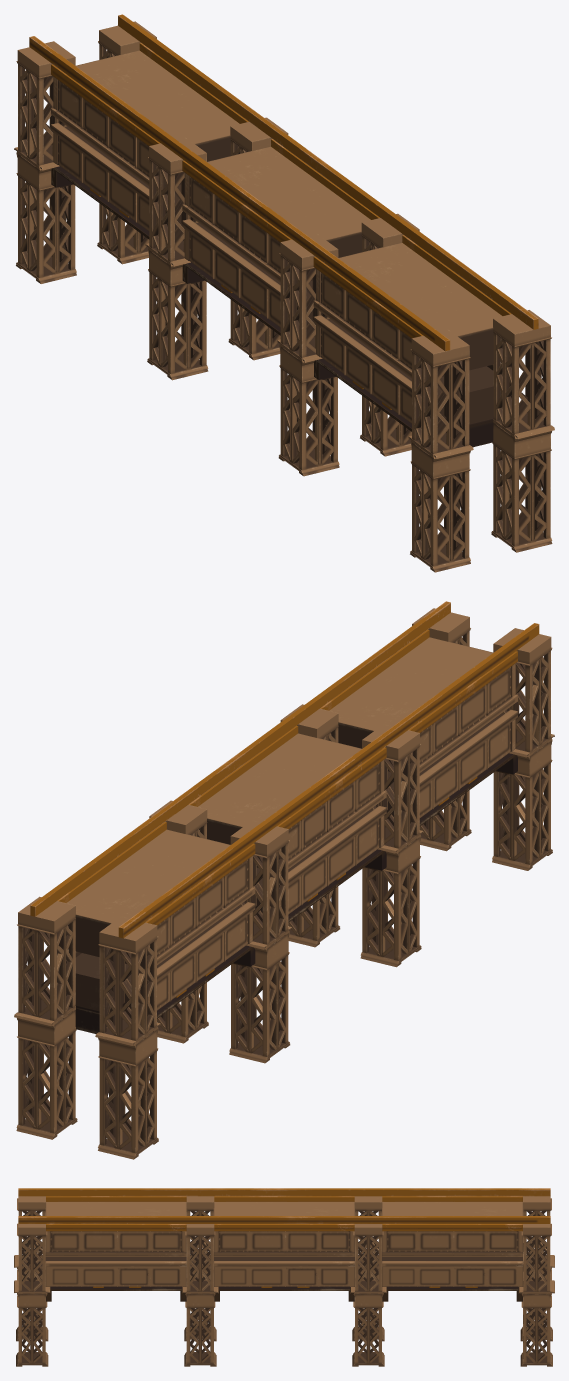
The model's file is estructura.gltf.
3 views of the same model, one above another, from view 1: azimuth 30°, elevation 25°; view 2: azimuth 150°, elevation 25°; view 3: azimuth 270°, elevation 25° (orthographic). The views are drawn at different scales.
Parts seen in each view (by area): view 1: Viga3_Estructura_V_0, Parte2, Parte1, Parte, Viga, Viga2, Viga1, Estructuratop2, Estructuratop; view 2: Viga, Parte, Parte1, Parte2, Viga2, Viga3_Estructura_V_0, Viga1, Estructuratop2, Estructuratop; view 3: Parte2, Parte, Parte1, Viga, Viga3_Estructura_V_0, Estructuratop2, Viga2, Viga1, Estructuratop.
Part boxes in pixels (x1=…): Viga3_Estructura_V_0: x1=408, y1=310, x2=554, y2=572; Parte2: x1=313, y1=235, x2=511, y2=447; Parte1: x1=182, y1=139, x2=379, y2=335; Parte: x1=51, y1=43, x2=248, y2=239; Viga: x1=14, y1=21, x2=156, y2=283; Viga2: x1=277, y1=213, x2=419, y2=476; Viga1: x1=145, y1=117, x2=288, y2=380; Estructuratop2: x1=29, y1=36, x2=450, y2=351; Estructuratop: x1=118, y1=14, x2=538, y2=329; Viga: x1=14, y1=896, x2=160, y2=1159; Parte: x1=57, y1=822, x2=255, y2=1033; Parte1: x1=189, y1=725, x2=386, y2=922; Parte2: x1=320, y1=629, x2=517, y2=826; Viga2: x1=280, y1=704, x2=423, y2=967; Viga3_Estructura_V_0: x1=412, y1=608, x2=554, y2=870; Viga1: x1=149, y1=800, x2=291, y2=1063; Estructuratop2: x1=118, y1=623, x2=539, y2=938; Estructuratop: x1=30, y1=601, x2=450, y2=916; Parte2: x1=45, y1=1196, x2=186, y2=1301; Parte: x1=382, y1=1196, x2=523, y2=1301; Parte1: x1=213, y1=1196, x2=354, y2=1301; Viga: x1=518, y1=1196, x2=554, y2=1366; Viga3_Estructura_V_0: x1=14, y1=1196, x2=50, y2=1366; Estructuratop2: x1=18, y1=1188, x2=550, y2=1196; Viga2: x1=182, y1=1196, x2=218, y2=1366; Viga1: x1=350, y1=1196, x2=386, y2=1366; Estructuratop: x1=18, y1=1216, x2=550, y2=1223.
Size of the model in its own units: 3.99 by 7.25 by 24.47.
